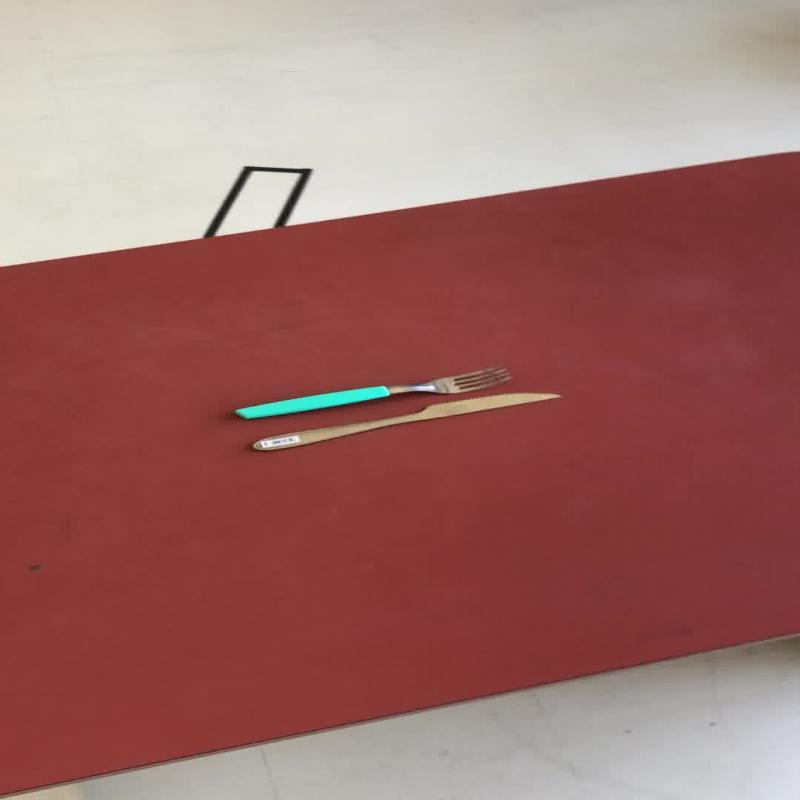fork: (231, 364, 511, 420)
knife: (248, 390, 561, 451), (232, 364, 512, 420)
